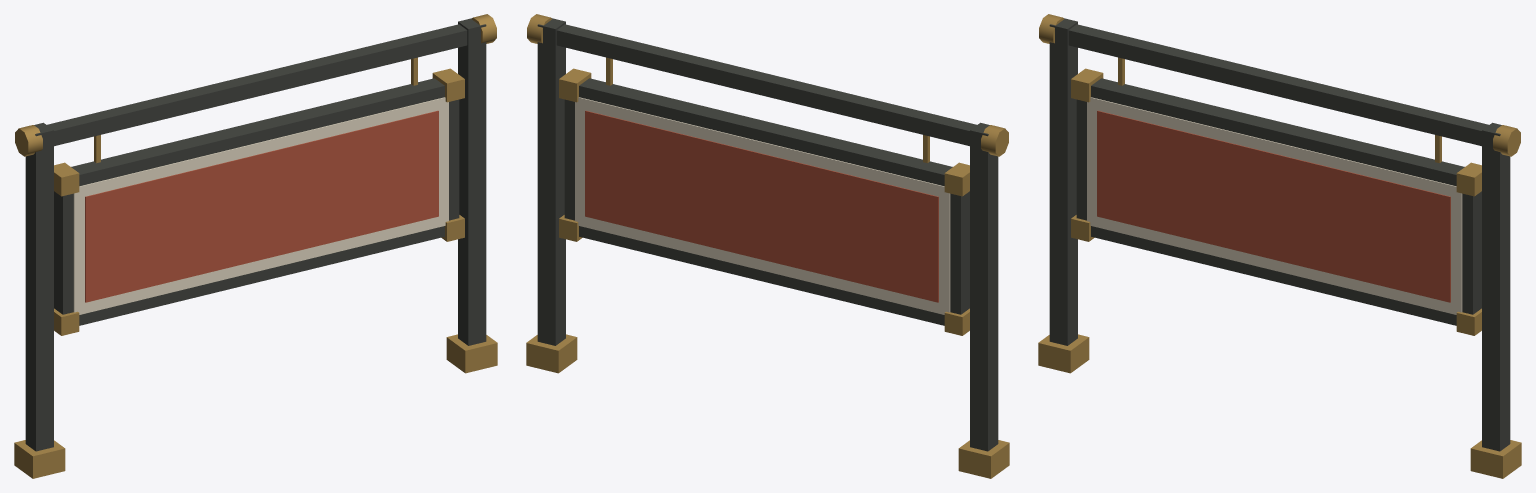
File: sign_post_2.glb
3 renders of one model, left to right at view 1: azimuth 30°, elevation 25°; view 2: azimuth 150°, elevation 25°; view 3: azimuth 330°, elevation 25°, orthographic.
Parts seen in each view (by area): view 1: sign_post_2; view 2: sign_post_2; view 3: sign_post_2.
Boxes of the visible parts, left/top/right/bottom form: sign_post_2: left=14, top=14, right=497, bottom=478; sign_post_2: left=526, top=14, right=1009, bottom=478; sign_post_2: left=1038, top=14, right=1521, bottom=478.
Bounding box in the file's own units: 2.6 × 1.81 × 0.18.
